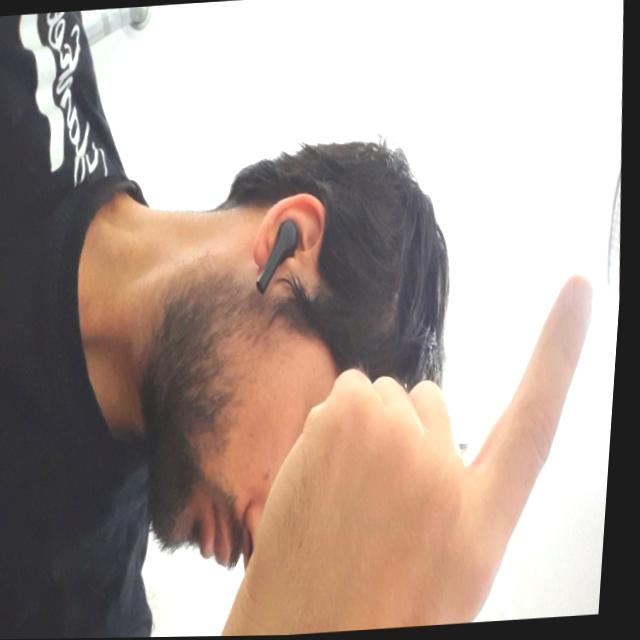Head: (121, 133, 486, 575)
One: (213, 273, 621, 637)
